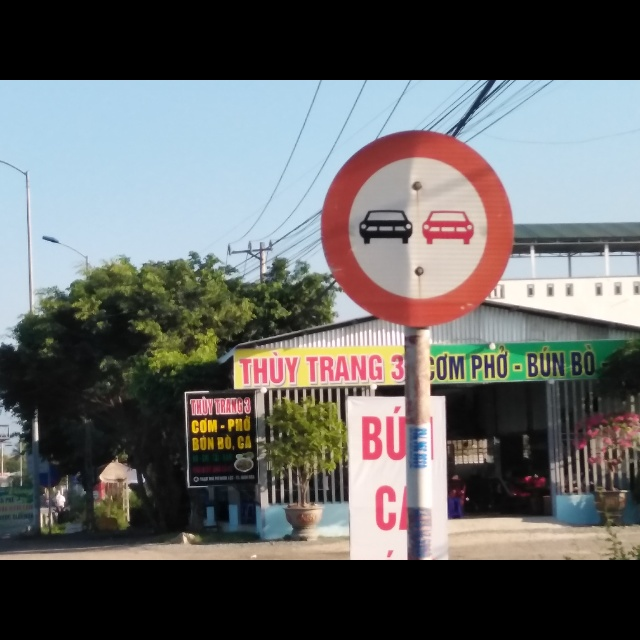Cấm vượt: (319, 131, 513, 331)
